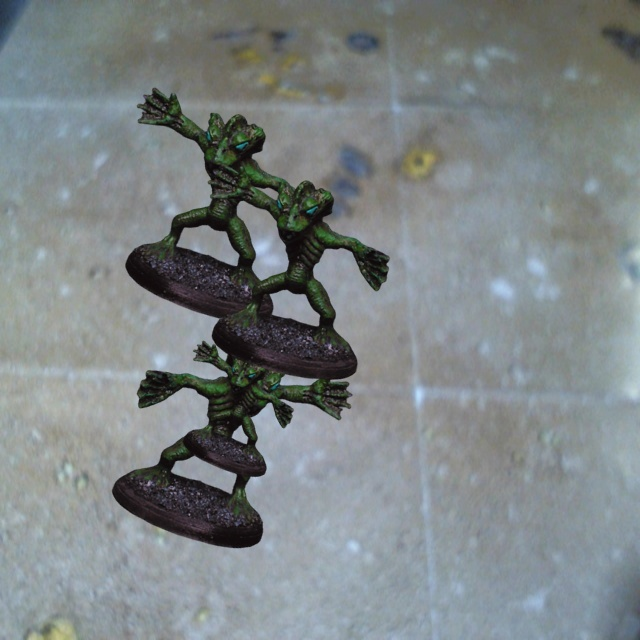pieza_juego: (112, 347, 352, 547), (125, 88, 317, 322), (208, 163, 389, 379), (183, 341, 293, 476)
